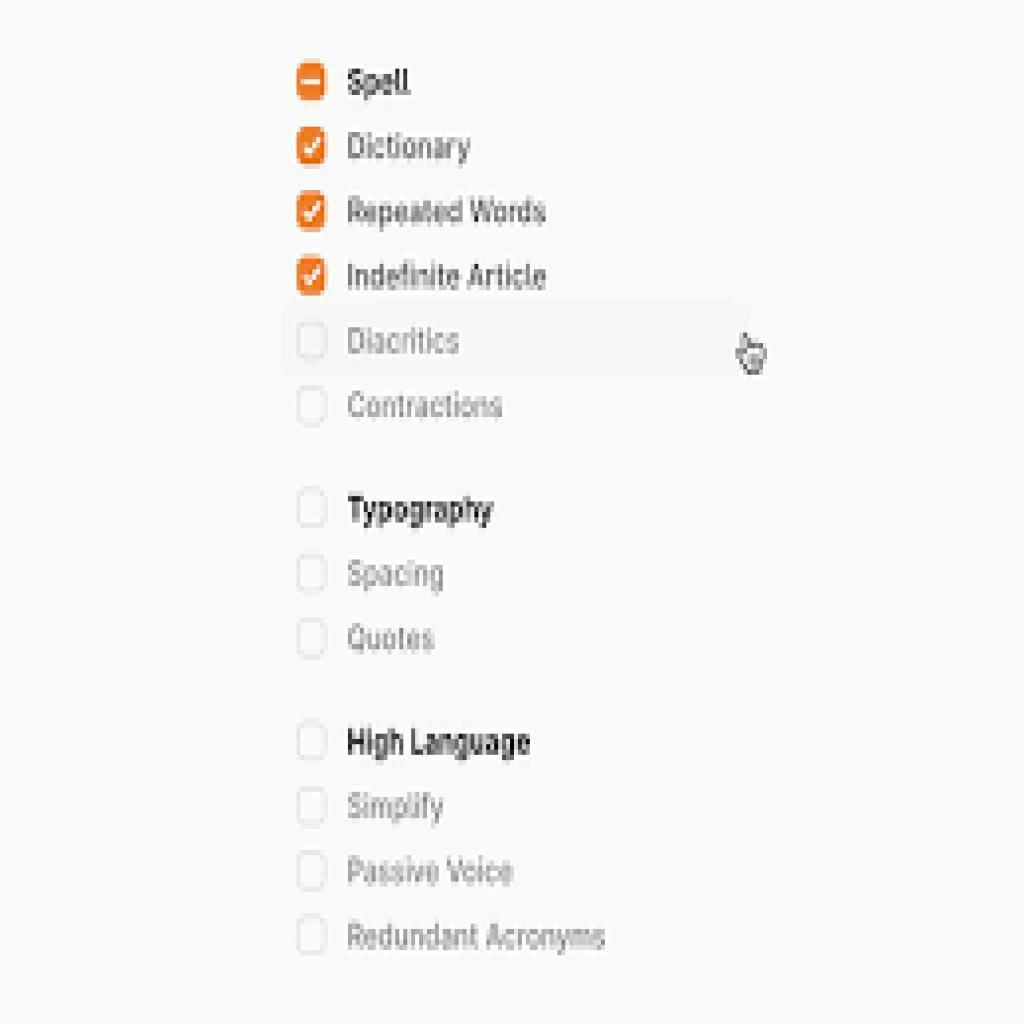checkbox: (295, 384, 331, 430), (295, 552, 333, 594), (295, 914, 330, 959), (296, 850, 331, 895), (296, 618, 330, 664), (296, 486, 330, 532), (296, 720, 332, 763), (296, 257, 331, 299), (296, 60, 328, 104), (296, 127, 329, 169), (296, 322, 331, 361), (299, 191, 329, 234), (298, 789, 330, 828)
